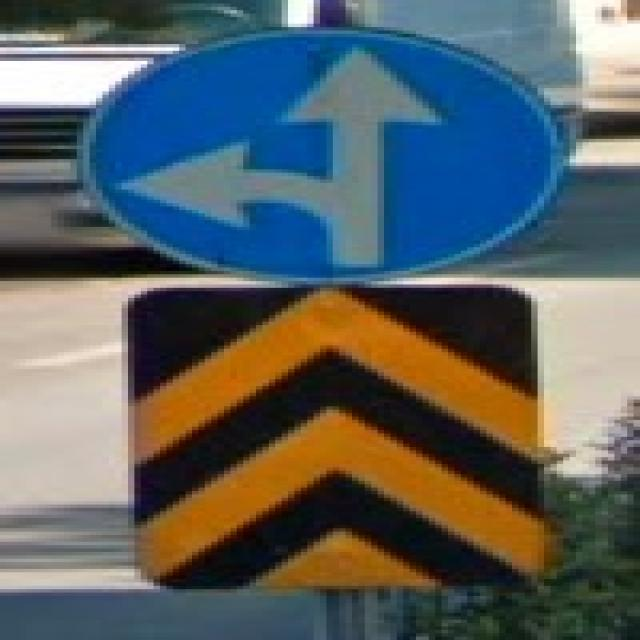Straight or Left: (78, 30, 564, 284)
